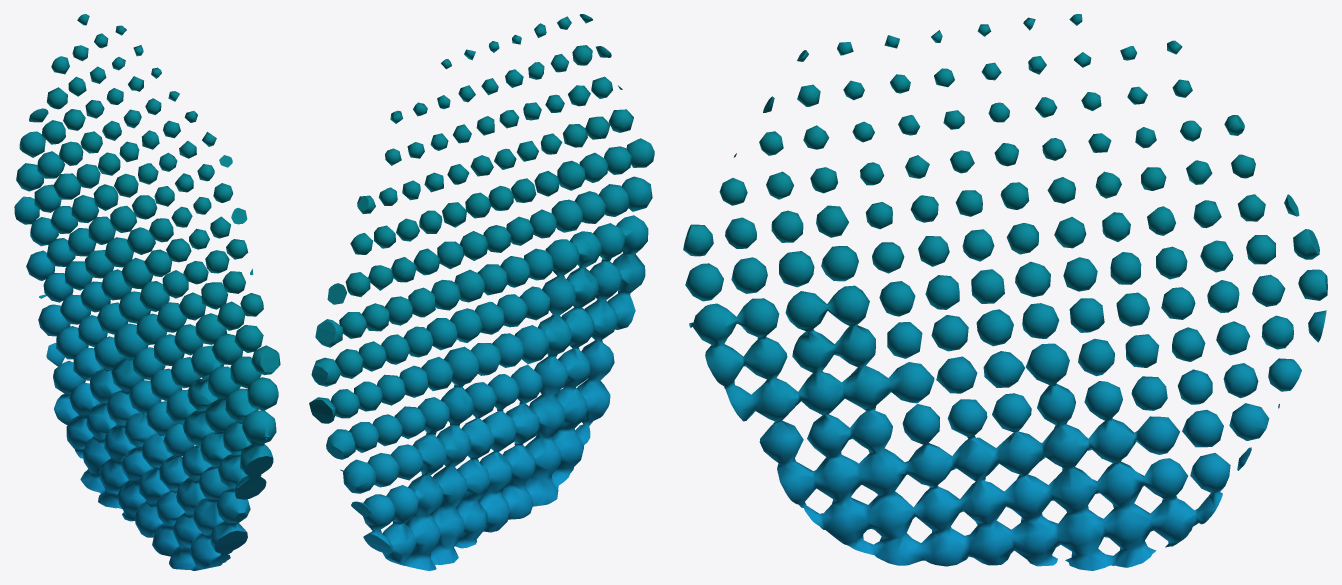
Rendered from mesh_signage_hexicon_large.glb.
The picture shows the model from 3 angles, left to right: view 1: azimuth 30°, elevation 25°; view 2: azimuth 150°, elevation 25°; view 3: azimuth 270°, elevation 25°; orthographic projection. The views are drawn at different scales.
Visible parts, largest first — view 1: mesh_signage_hexicon_large; view 2: mesh_signage_hexicon_large; view 3: mesh_signage_hexicon_large.
Part boxes in pixels (x1,y1,x2,y2): mesh_signage_hexicon_large: (14, 14, 280, 570); mesh_signage_hexicon_large: (309, 14, 654, 570); mesh_signage_hexicon_large: (683, 14, 1327, 570).
Bounding box in the file's own units: 0.2609 × 1.95 × 2.08.
Materials: 1 (1 with a texture image).
